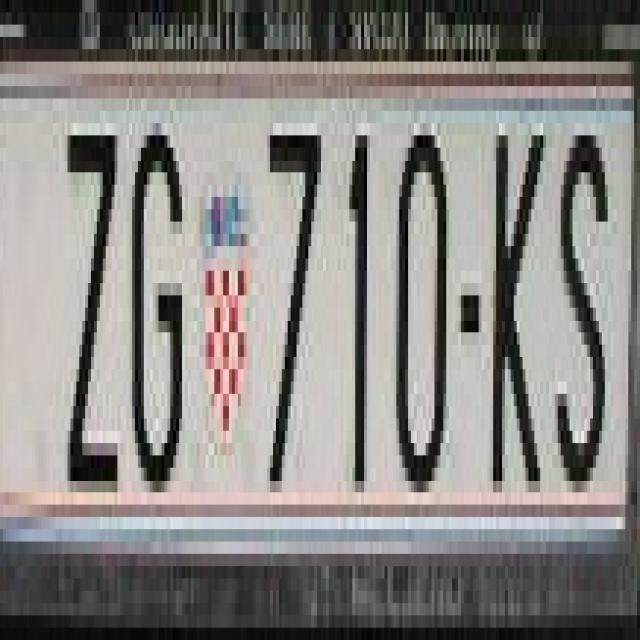0: (394, 111, 449, 480)
1: (341, 86, 378, 480)
7: (264, 111, 323, 517)
G: (126, 123, 185, 505)
K: (487, 99, 543, 492)
S: (555, 123, 611, 505)
Z: (64, 99, 120, 492)
